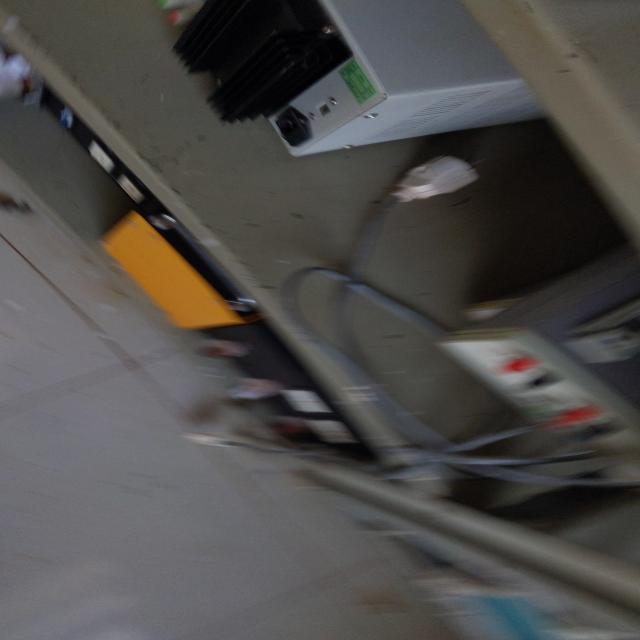Analog DC Power Supply: (396, 309, 637, 502)
